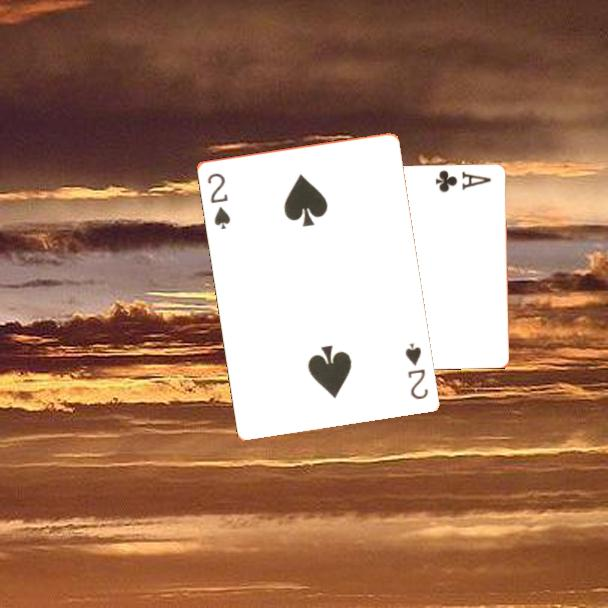c01: (432, 166, 494, 195)
s02: (203, 169, 233, 232), (401, 339, 431, 402)
